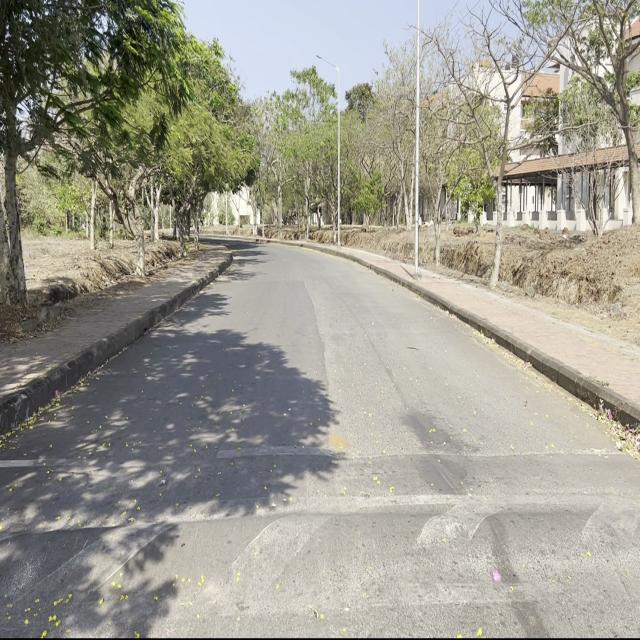Road: (5, 239, 638, 632)
